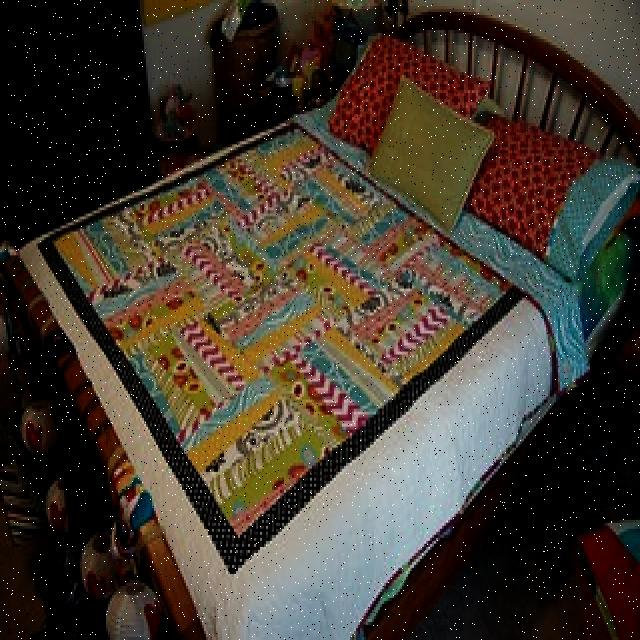bed: (2, 27, 634, 640)
